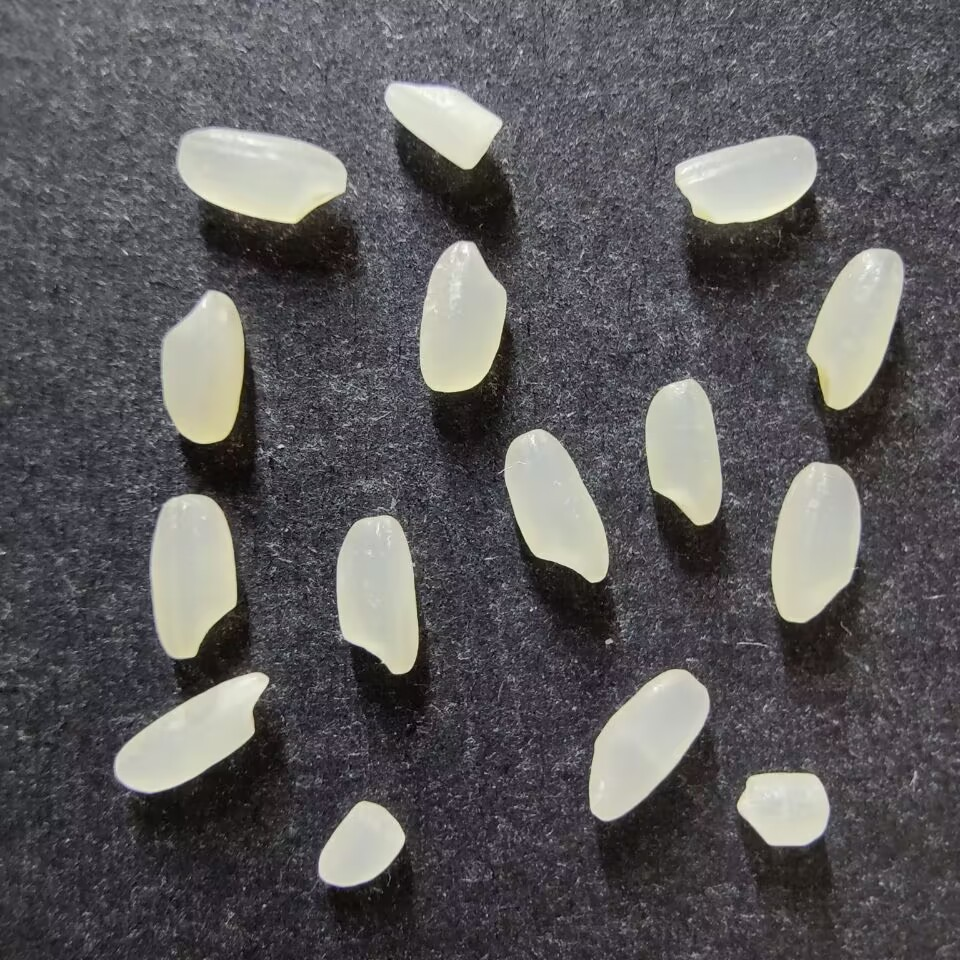broken: (383, 81, 503, 170), (317, 801, 405, 887), (735, 771, 830, 847)
rice: (113, 671, 270, 794), (587, 668, 710, 822), (175, 128, 347, 225), (503, 429, 610, 583), (805, 247, 904, 410), (149, 494, 238, 660), (770, 461, 861, 623), (418, 240, 507, 393), (335, 515, 418, 674), (673, 134, 818, 225), (159, 290, 244, 444), (644, 379, 722, 526)
